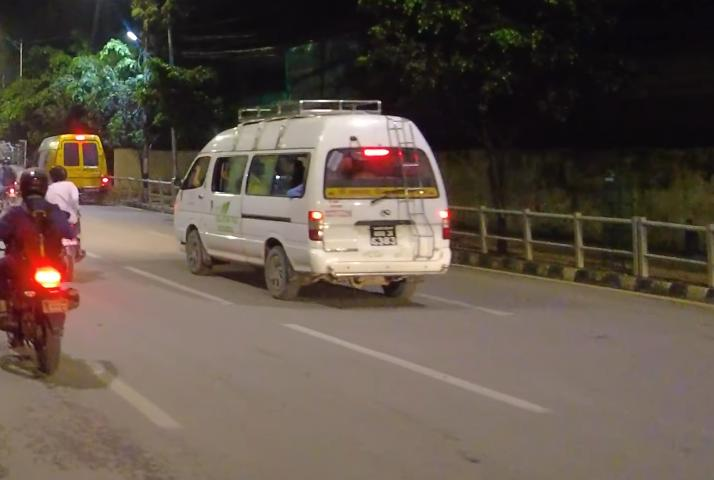bike: (0, 209, 84, 383)
micro_bus: (169, 95, 456, 306)
